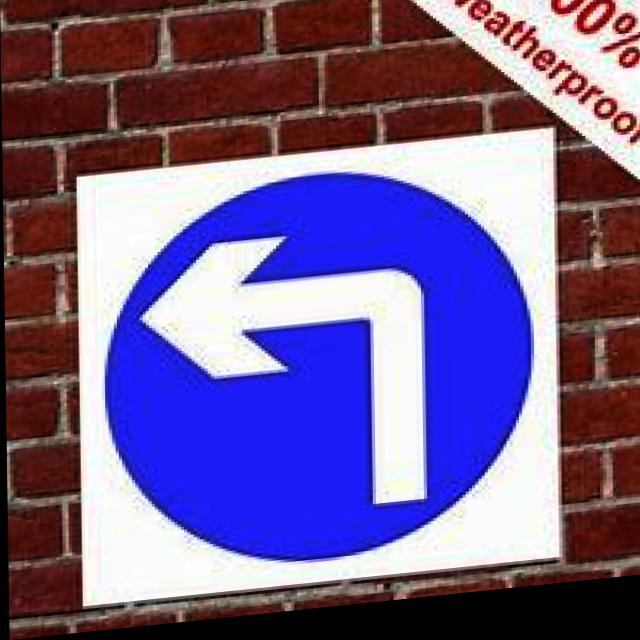COMPULSARY_TURN_LEFT_AHEAD: (103, 157, 536, 584)
